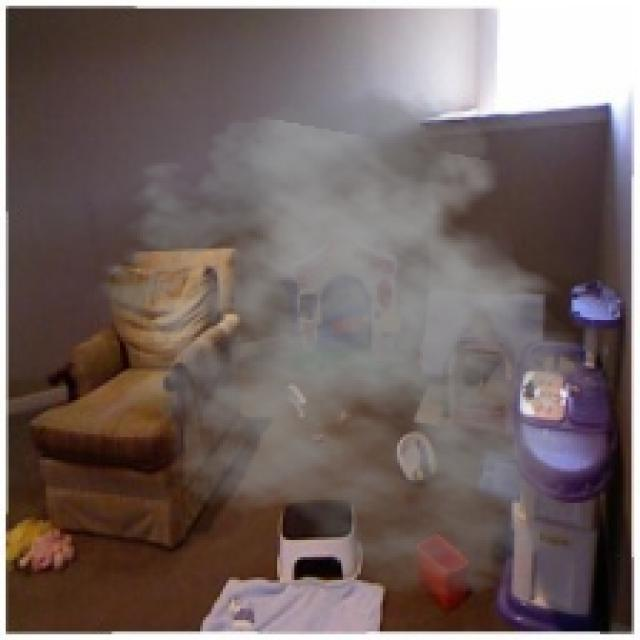Smoke: (77, 80, 634, 600)
